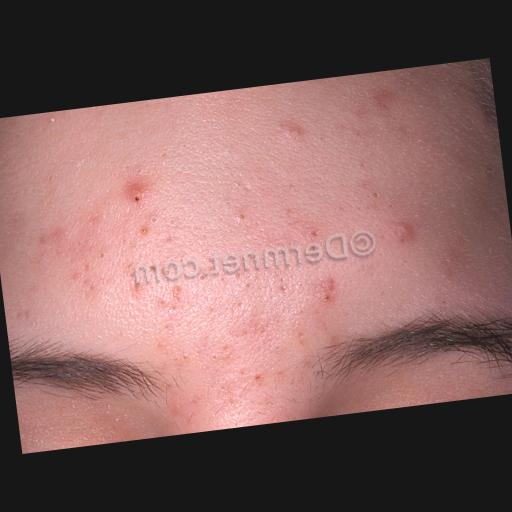Skin_Lesion: (276, 114, 318, 150), (266, 262, 296, 302), (313, 274, 343, 313), (150, 286, 188, 316), (122, 178, 154, 208), (392, 218, 417, 248), (478, 162, 504, 186), (234, 270, 256, 298), (228, 204, 250, 232), (176, 403, 200, 426), (364, 184, 384, 210), (92, 244, 114, 266), (250, 364, 268, 386), (309, 224, 324, 242), (137, 223, 151, 240)
